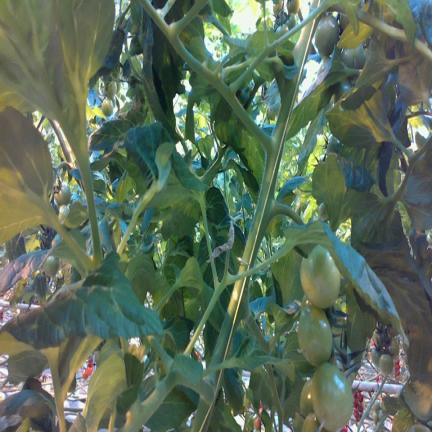6kp_peduncle: (250, 164, 306, 237)
6kp_petiole: (232, 100, 292, 190), (174, 347, 227, 432), (217, 276, 268, 353)
MainStem: (236, 18, 320, 271), (209, 276, 250, 367), (191, 370, 224, 432)
tomato: (311, 362, 352, 430), (300, 245, 340, 308), (298, 303, 332, 365), (331, 331, 363, 376), (315, 15, 339, 56), (342, 44, 365, 69), (300, 379, 313, 416), (55, 182, 71, 205), (43, 255, 60, 276), (302, 413, 319, 431), (379, 354, 393, 374), (388, 337, 399, 358), (101, 98, 113, 116), (58, 205, 69, 222), (371, 347, 380, 367), (106, 81, 116, 98), (287, 0, 300, 13), (372, 329, 381, 347), (273, 0, 283, 15), (277, 24, 288, 36), (288, 13, 296, 29), (52, 234, 61, 246), (380, 401, 388, 414), (254, 417, 261, 430), (374, 400, 380, 413), (372, 411, 378, 422)
